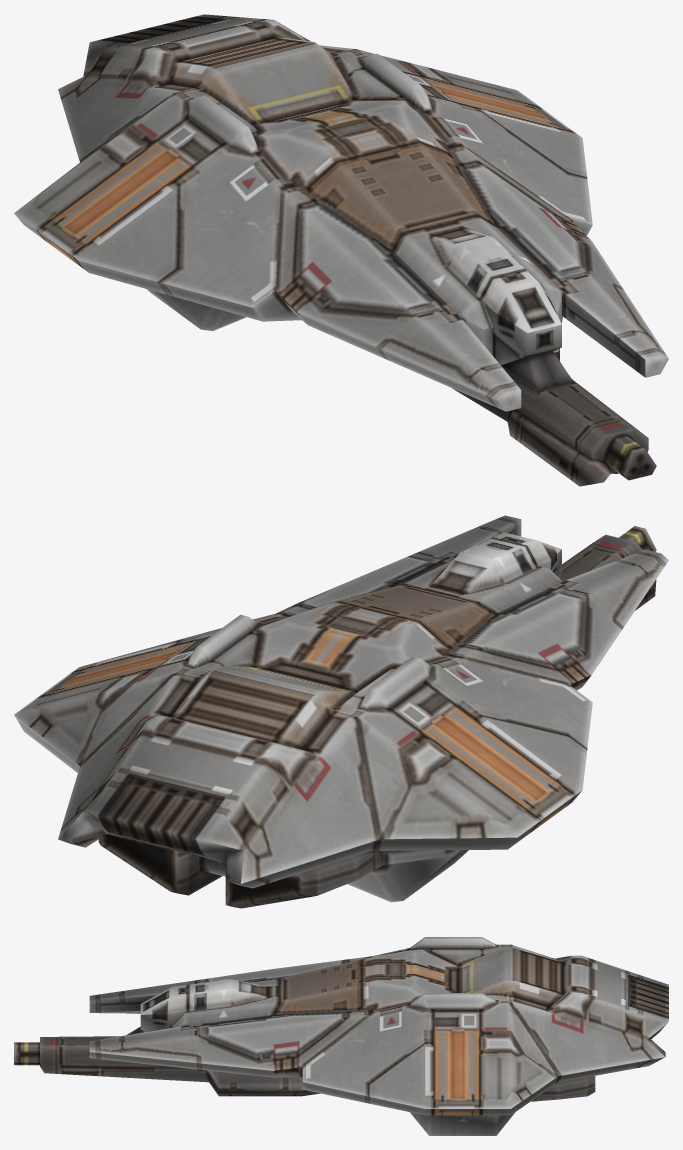
Rendered from hgn_sf_intc_01_t4_0.glb.
3 views of the same model, one above another, from view 1: azimuth 30°, elevation 25°; view 2: azimuth 150°, elevation 25°; view 3: azimuth 270°, elevation 25° (orthographic). The views are drawn at different scales.
Parts seen in each view (by area): view 1: hgn_sf_intc_01_t4_LOD0; view 2: hgn_sf_intc_01_t4_LOD0; view 3: hgn_sf_intc_01_t4_LOD0.
Part boxes in pixels (x1,y1,x2,y2): hgn_sf_intc_01_t4_LOD0: (14, 14, 668, 486); hgn_sf_intc_01_t4_LOD0: (14, 515, 668, 908); hgn_sf_intc_01_t4_LOD0: (14, 937, 668, 1135).
Size of what is drawn, in the model's own units: 0.4207 by 0.1604 by 0.714.
1 material, 1 textured.
